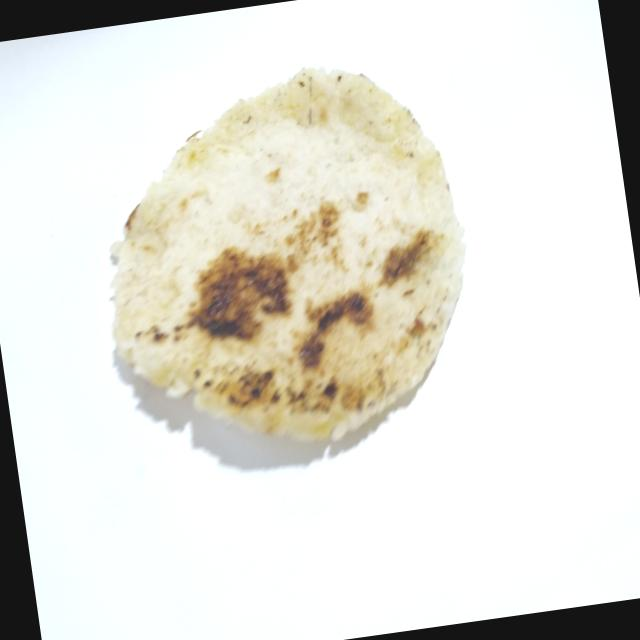Mbeju: (71, 38, 503, 492)
